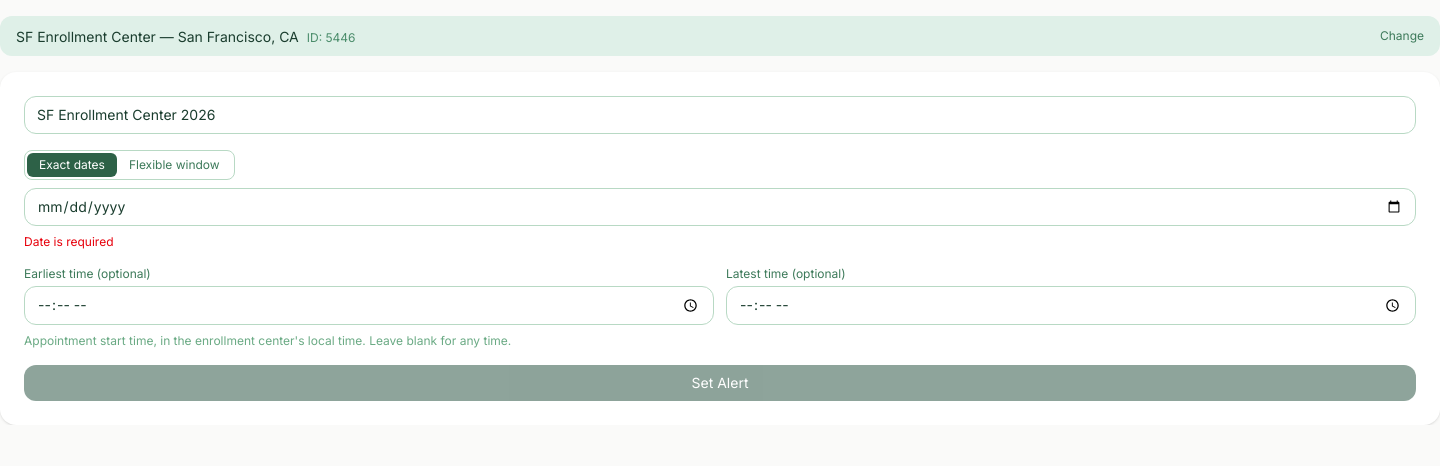
Test: RequestBuilder for a Global Entry center › an inverted window shows an error and blocks submitting
This screenshot has width=1440, height=466.
Type "2026-10-27" into the date field named "Date" at (720, 207), box [24, 188, 1416, 226]
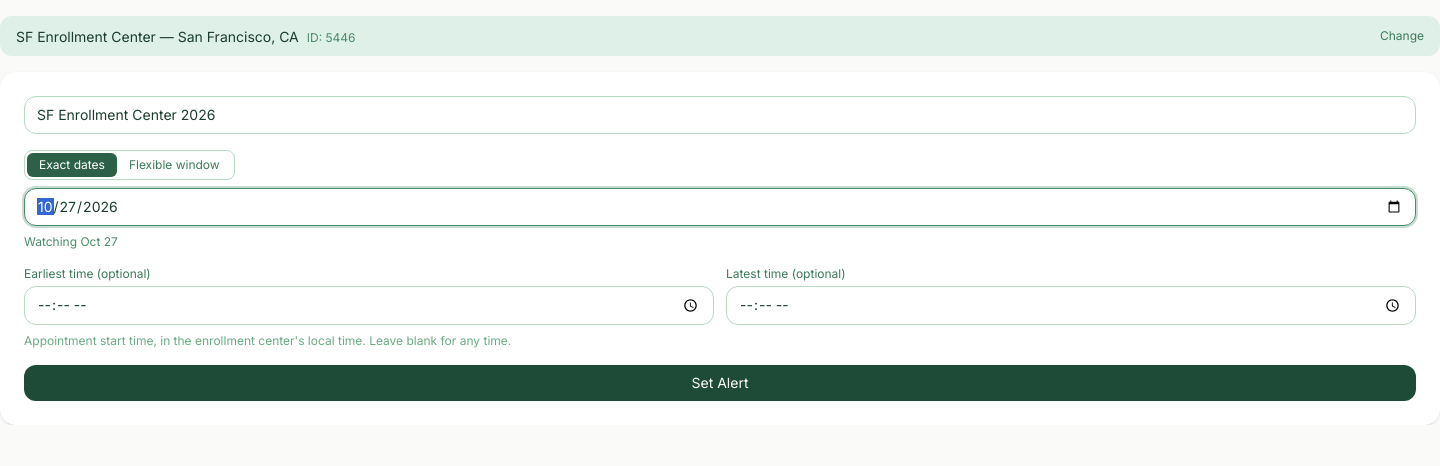
Type "14:00" into the time field named "Earliest time" at (369, 305), box [24, 286, 714, 325]
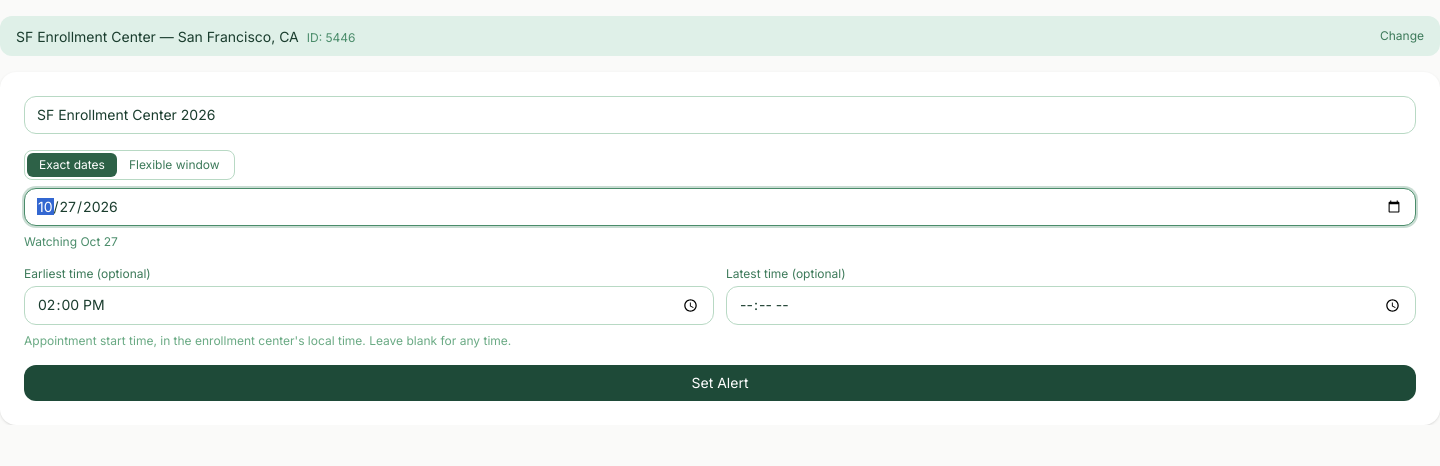
Type "11:30" into the time field named "Latest time" at (1071, 305), box [726, 286, 1416, 325]
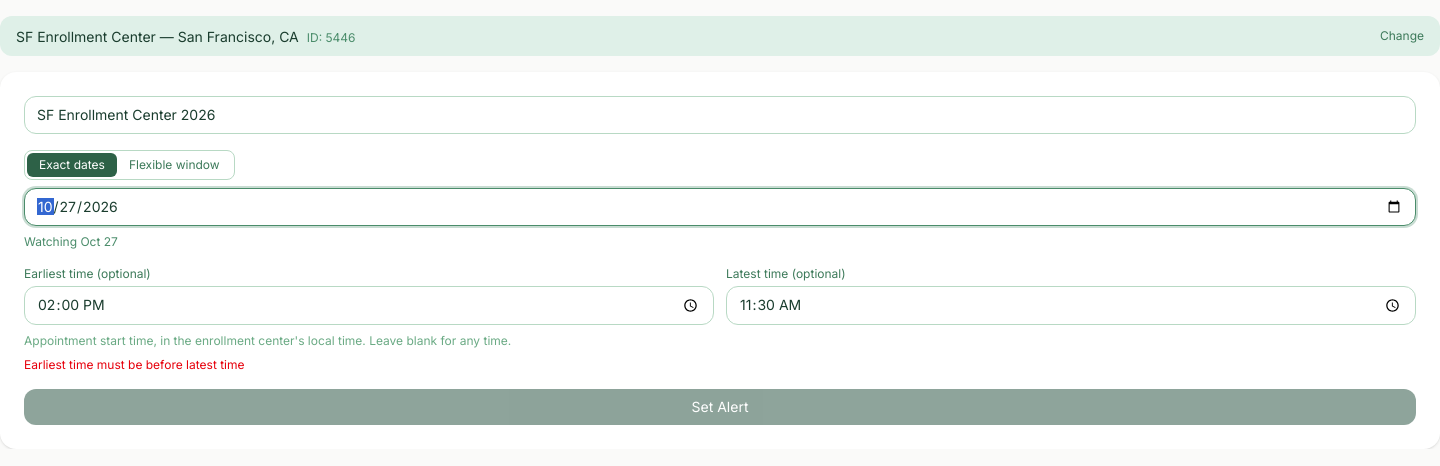
Now the text "Earliest time must be before latest time" is shown, box [24, 357, 244, 372]
Now the button "Set Alert" is disabled, box [24, 389, 1416, 425]
